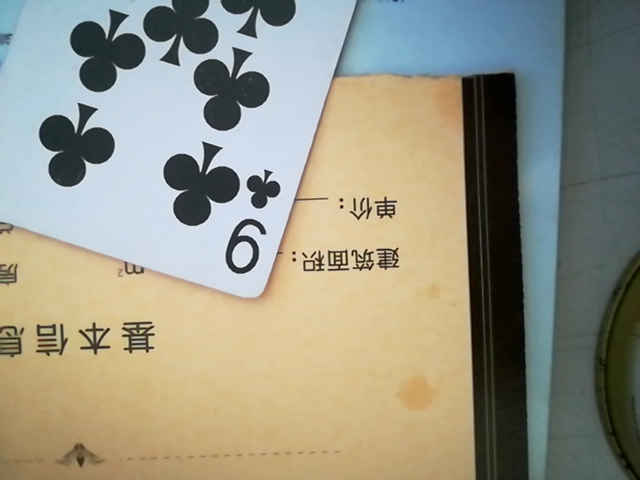mh 9: (2, 2, 391, 304)
